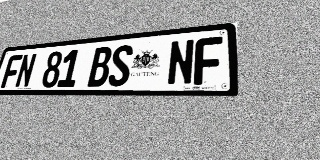1: (57, 49, 82, 87)
8: (40, 51, 64, 87)
B: (87, 46, 113, 87)
F: (194, 36, 223, 85), (1, 54, 23, 88)
N: (167, 39, 195, 86), (14, 53, 37, 88)
S: (107, 44, 134, 86)
